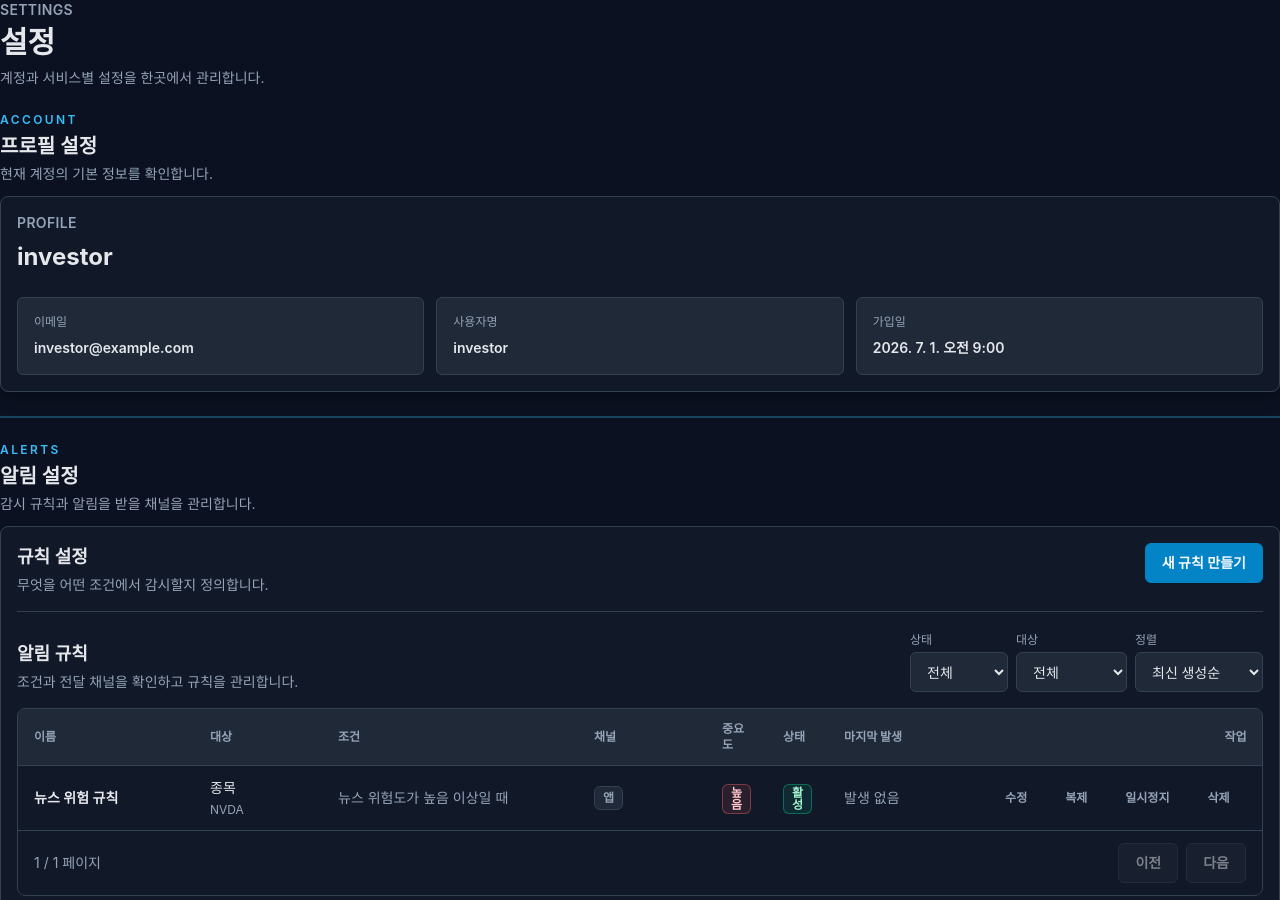
Scenario: SettingsPage › opens create, edit, and duplicate builder modes from rule controls
expect the text "뉴스 위험 규칙" is shown: met, box [18, 766, 194, 830]
What coordinates should you click on to do the following:
click the button "새 규칙 만들기"
I would click on:
 (1204, 563)
Its box is [1145, 543, 1263, 583].
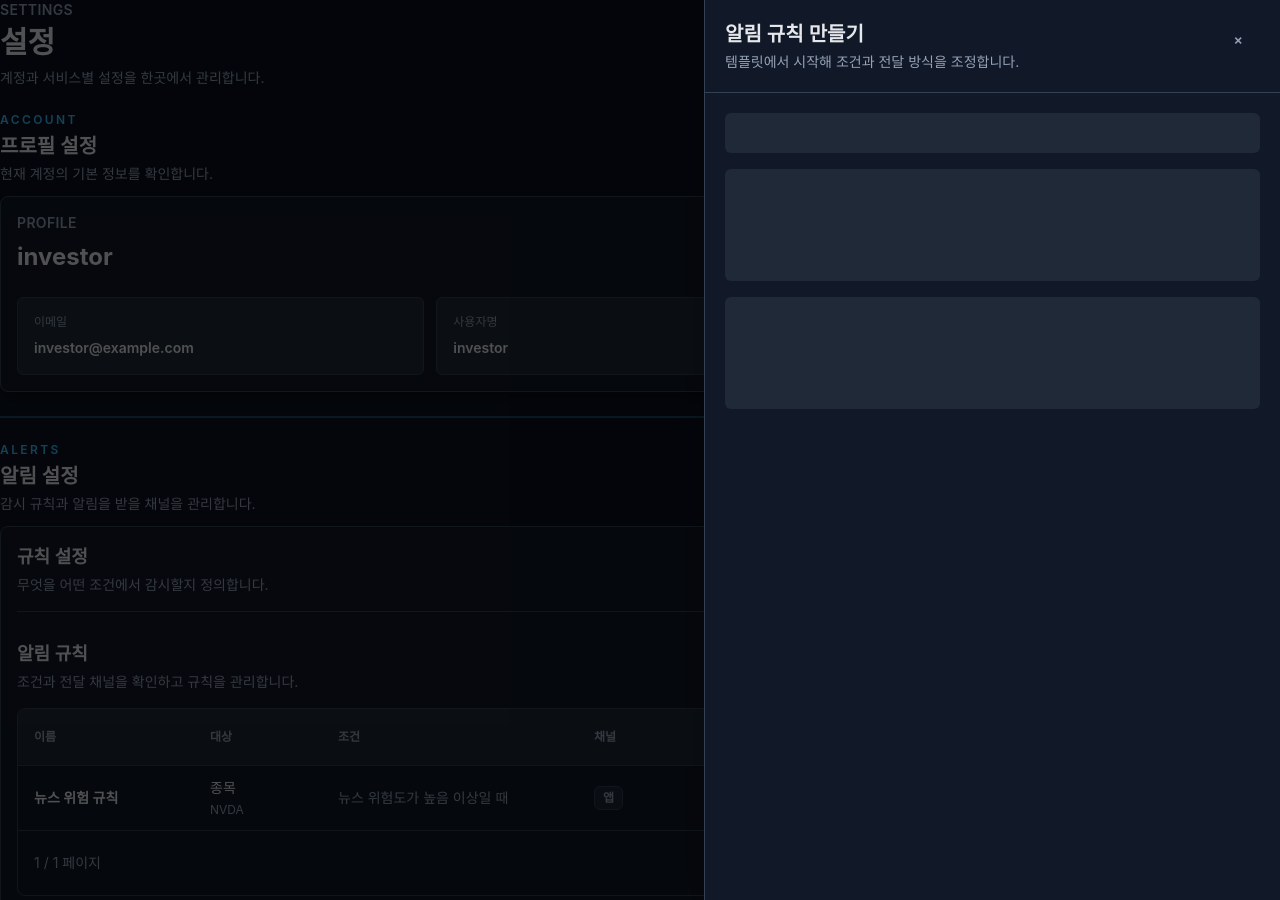
expect the heading "알림 규칙 만들기" is shown: met, box [725, 22, 864, 46]
What coordinates should you click on to do the following:
click the button named "알림 규칙 빌더 닫기"
I would click on:
 (1238, 40)
Its box is [1217, 20, 1260, 60].
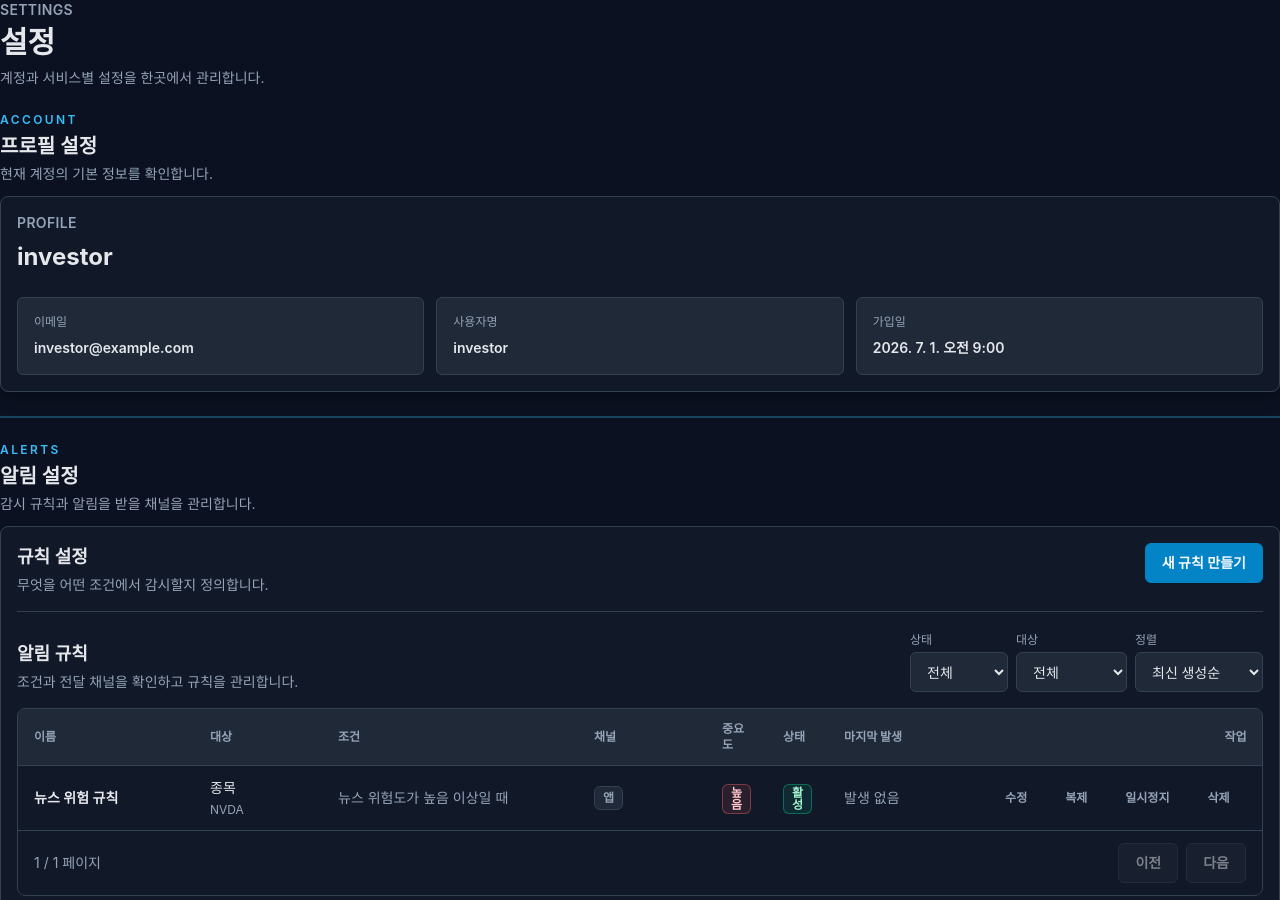
What coordinates should you click on to do the following:
click the button "수정"
I would click on:
 (1016, 798)
Its box is [988, 778, 1044, 818].
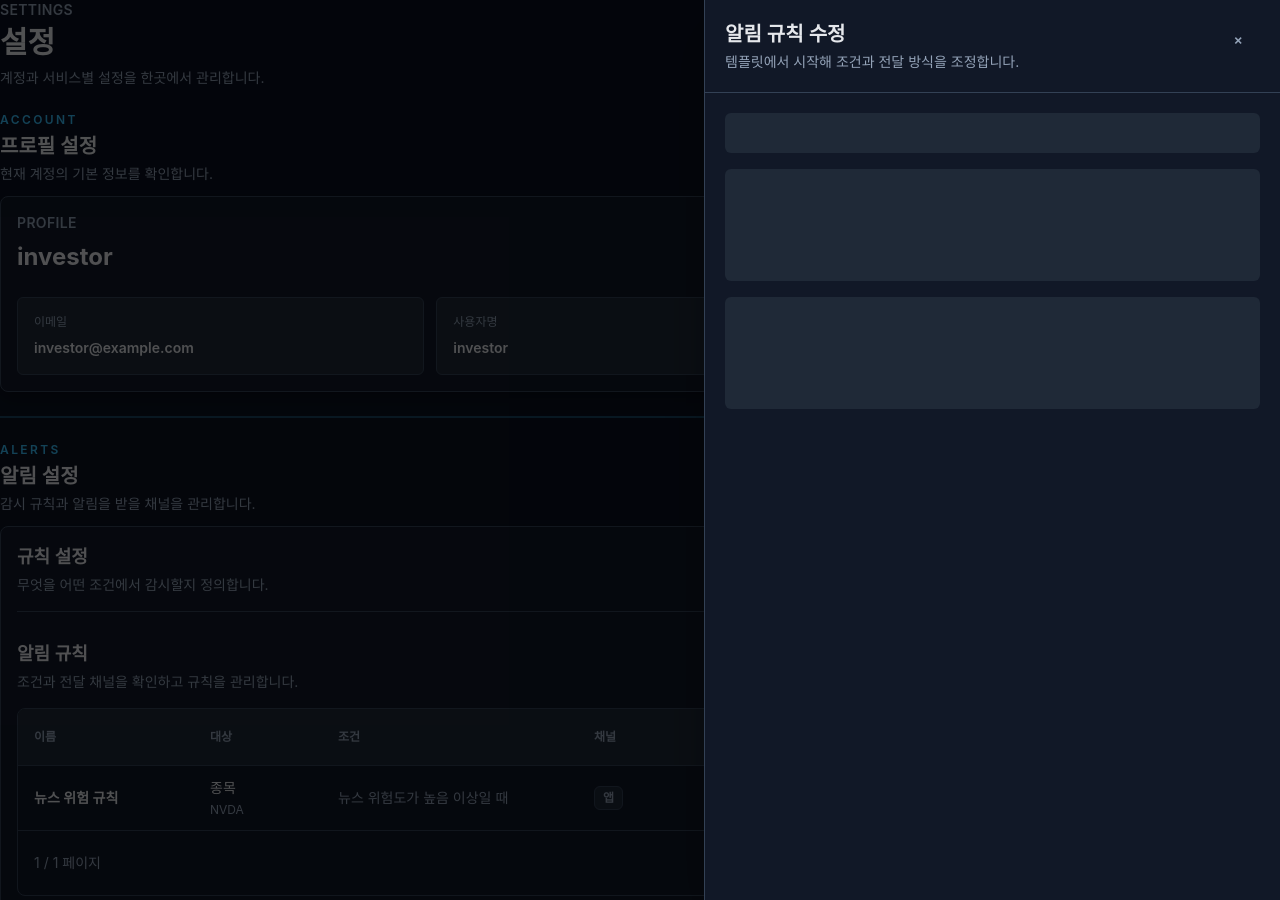
expect the heading "알림 규칙 수정" is shown: met, box [725, 22, 846, 46]
What coordinates should you click on to do the following:
click the button named "알림 규칙 빌더 닫기"
I would click on:
 (1238, 40)
Its box is [1217, 20, 1260, 60].
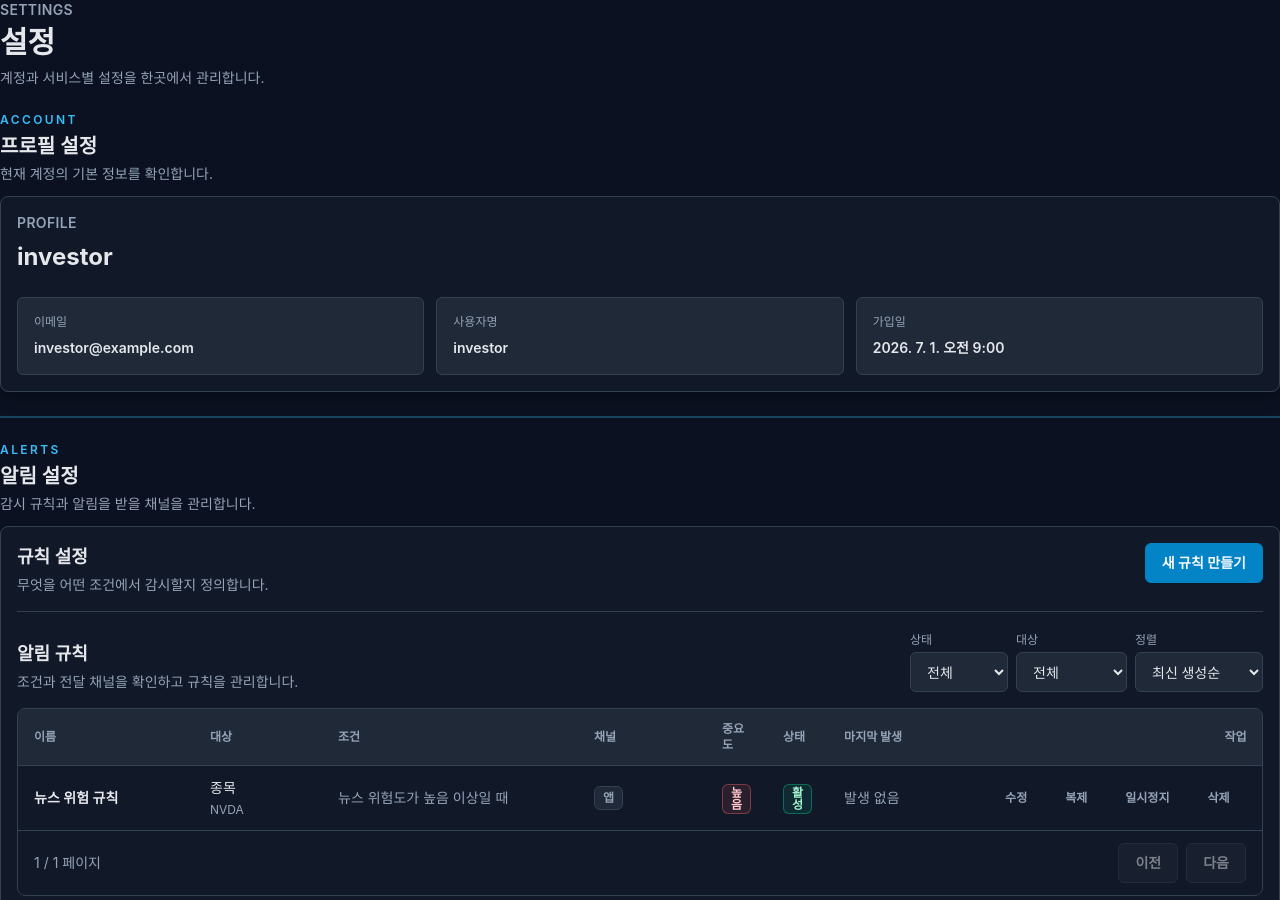
What coordinates should you click on to do the following:
click the button "복제"
I would click on:
 (1076, 798)
Its box is [1048, 778, 1104, 818].
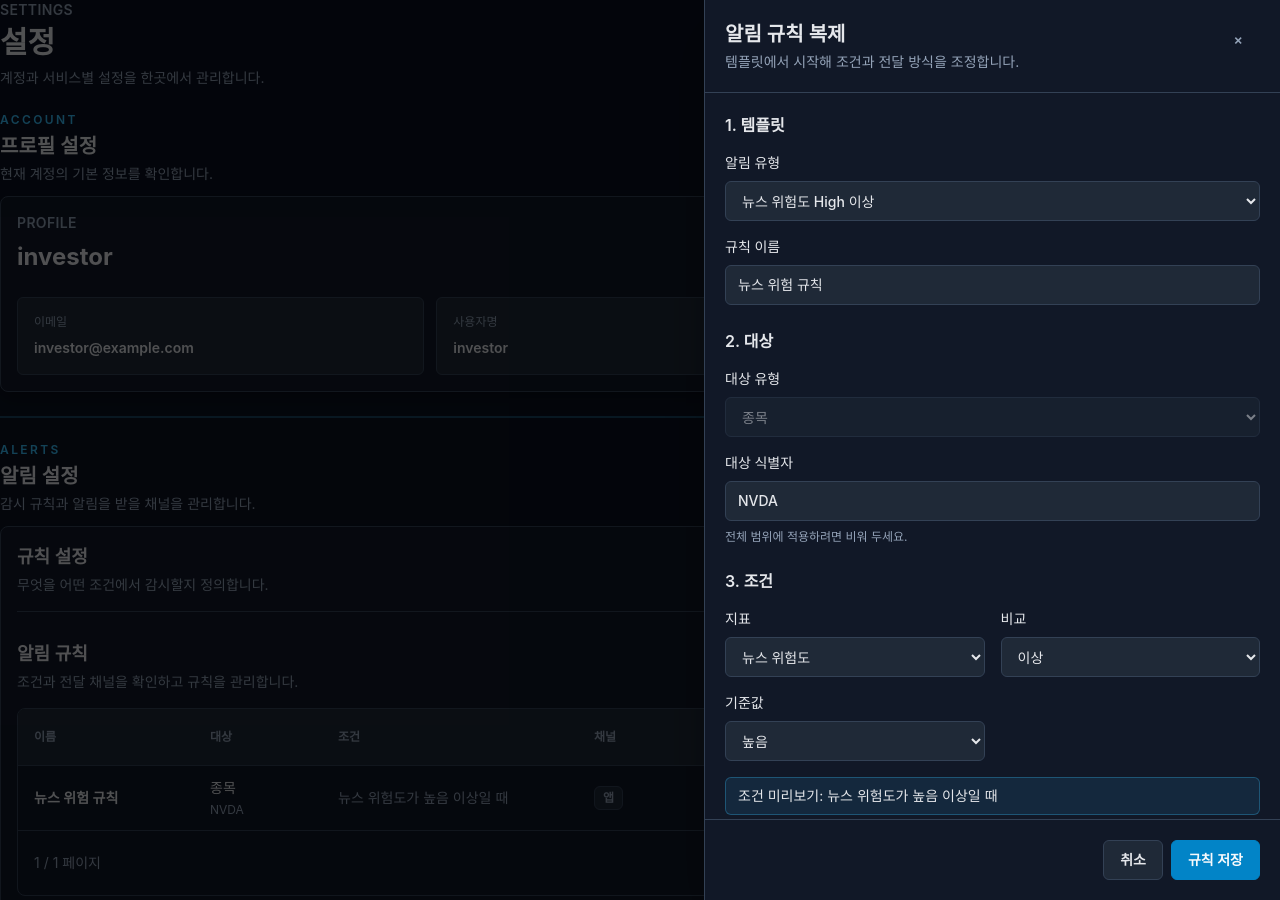
expect the heading "알림 규칙 복제" is shown: met, box [725, 22, 846, 46]
